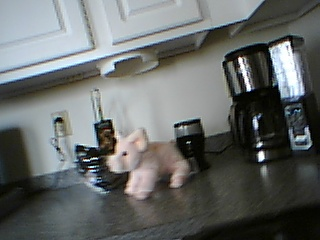piggy: (105, 126, 191, 200)
